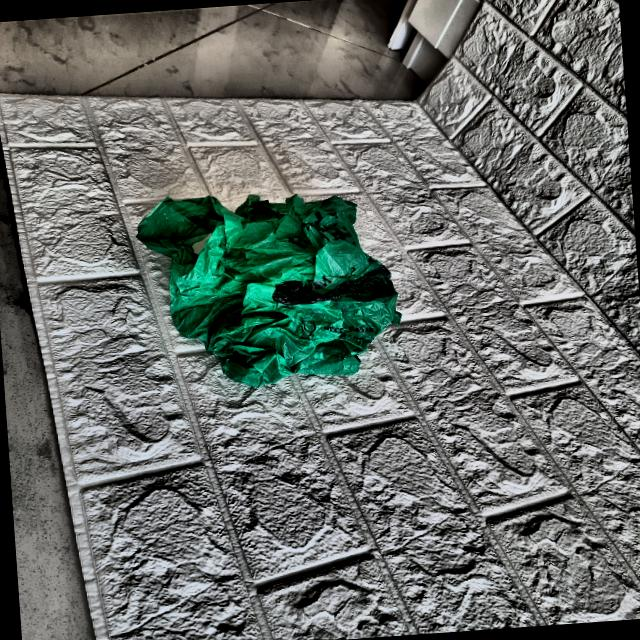plastic bag: (139, 181, 402, 394)
